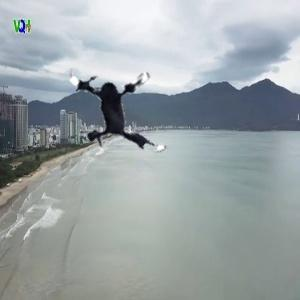drone: (54, 36, 194, 176)
